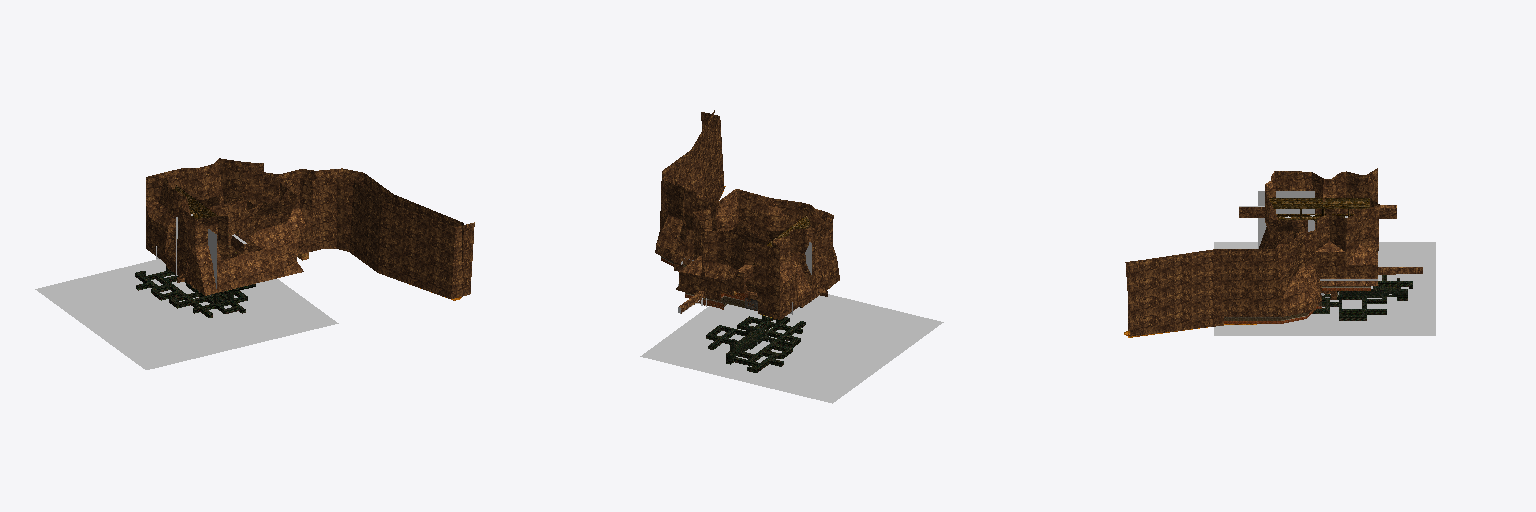
The picture shows the model from 3 angles: view 1: azimuth 30°, elevation 25°; view 2: azimuth 150°, elevation 25°; view 3: azimuth 270°, elevation 25°; orthographic projection.
Visible parts, largest first — view 1: #Room0#_Floor_Room0_SandStone., #Room2#IndoorEnv01#_Crap#AlphaDC#NoCollision_CrapWater., #Room2#IndoorEnv01#_Room2#Stone_MossyWall., #Room2#IndoorEnv01#_Room2#Stone_SewerWall.; view 2: #Room0#_Floor_Room0_SandStone., #Room2#IndoorEnv01#_Crap#AlphaDC#NoCollision_CrapWater., #Room2#IndoorEnv01#_Room2#Stone_MossyWall., #Room2#IndoorEnv01#_Room2#Stone_SewerWall., #Room0#_Floor_Room0#Stone_SandStone.006.; view 3: #Room0#_Floor_Room0_SandStone., #Room2#IndoorEnv01#_Crap#AlphaDC#NoCollision_CrapWater., #Room2#IndoorEnv01#_Room2#Stone_MossyWall., #Room0#_WoodBridge#PlankWood#_PlankWood., #Room0#_Floor_Room0#Stone_SandStone.006., #Room0#_Fence#NoLedgeClimb#IgnoreProjectiles#Wood#BackfaceCullin, #Room2#IndoorEnv01#_Room2#Stone_SewerWall..
Boxes of the visible parts, x1,y1,x2,y2 form: #Room0#_Floor_Room0_SandStone.: [146, 158, 474, 298]; #Room2#IndoorEnv01#_Crap#AlphaDC#NoCollision_CrapWater.: [35, 259, 338, 369]; #Room2#IndoorEnv01#_Room2#Stone_MossyWall.: [136, 266, 247, 314]; #Room2#IndoorEnv01#_Room2#Stone_SewerWall.: [135, 268, 247, 317]; #Room0#_Floor_Room0_SandStone.: [655, 110, 839, 319]; #Room2#IndoorEnv01#_Crap#AlphaDC#NoCollision_CrapWater.: [640, 294, 943, 403]; #Room2#IndoorEnv01#_Room2#Stone_MossyWall.: [707, 315, 804, 369]; #Room2#IndoorEnv01#_Room2#Stone_SewerWall.: [706, 318, 805, 372]; #Room0#_Floor_Room0#Stone_SandStone.006.: [661, 256, 747, 309]; #Room0#_Floor_Room0_SandStone.: [1125, 168, 1422, 336]; #Room2#IndoorEnv01#_Crap#AlphaDC#NoCollision_CrapWater.: [1214, 242, 1435, 335]; #Room2#IndoorEnv01#_Room2#Stone_MossyWall.: [1315, 275, 1412, 316]; #Room0#_WoodBridge#PlankWood#_PlankWood.: [1266, 198, 1369, 229]; #Room0#_Floor_Room0#Stone_SandStone.006.: [1224, 286, 1370, 323]; #Room0#_Fence#NoLedgeClimb#IgnoreProjectiles#Wood#BackfaceCullin: [1258, 191, 1314, 248]; #Room2#IndoorEnv01#_Room2#Stone_SewerWall.: [1312, 283, 1412, 320].
Bounding box in the file's own units: 5844 × 2288 × 5541.
73 materials, 41 textured.